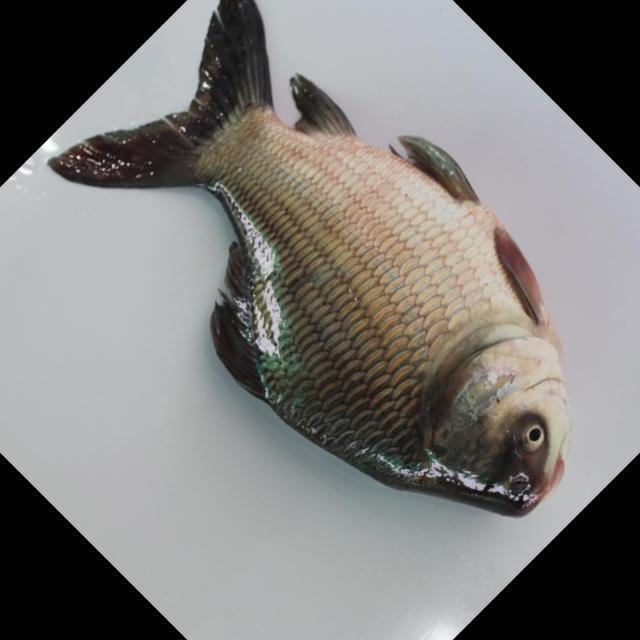Catla: (47, 1, 582, 520)
